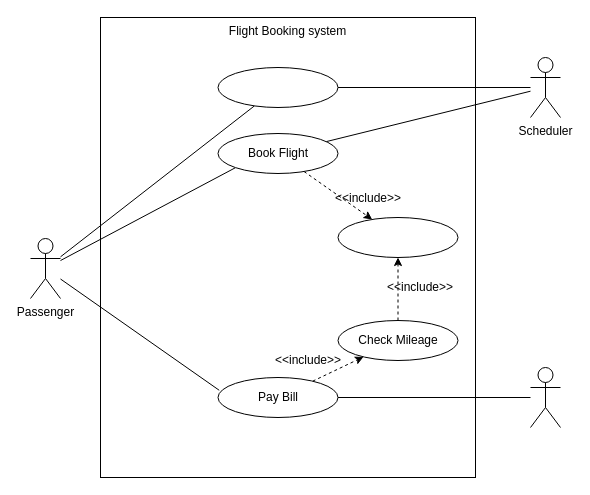
Some shapes in this 590 by 495 pixel diagram are drawn without their labels. The shapes that lost their labels are listed below. From the top down, each one's centre as x and y in pixels, then its label:
At point 277,87: "Cancel Flight".
At point 397,237: "Check User Info.".
At point 545,397: "Clerk".
